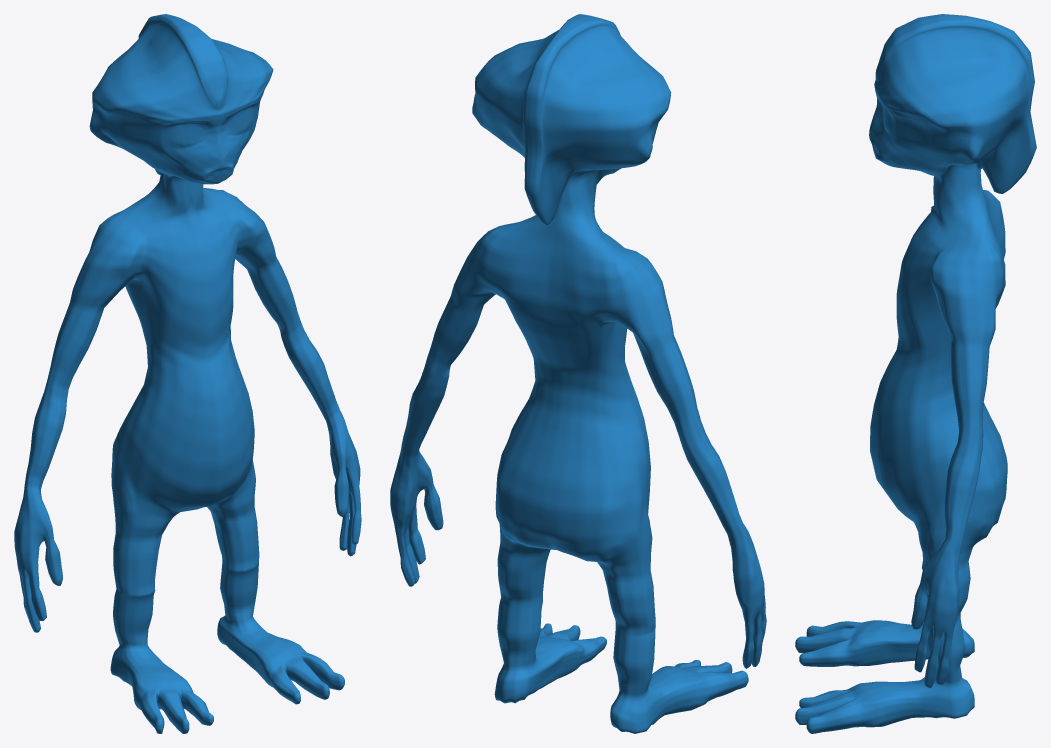
3 views of the same model, side by side, from view 1: azimuth 30°, elevation 25°; view 2: azimuth 150°, elevation 25°; view 3: azimuth 270°, elevation 25° (orthographic). The views are drawn at different scales.
Parts seen in each view (by area): view 1: humanBody; view 2: humanBody; view 3: humanBody.
Part boxes in pixels (<box>): humanBody: <box>14,14,361,733</box>; humanBody: <box>390,14,766,733</box>; humanBody: <box>795,14,1036,733</box>.
Bounding box in the file's own units: 1366 × 2469 × 803.
